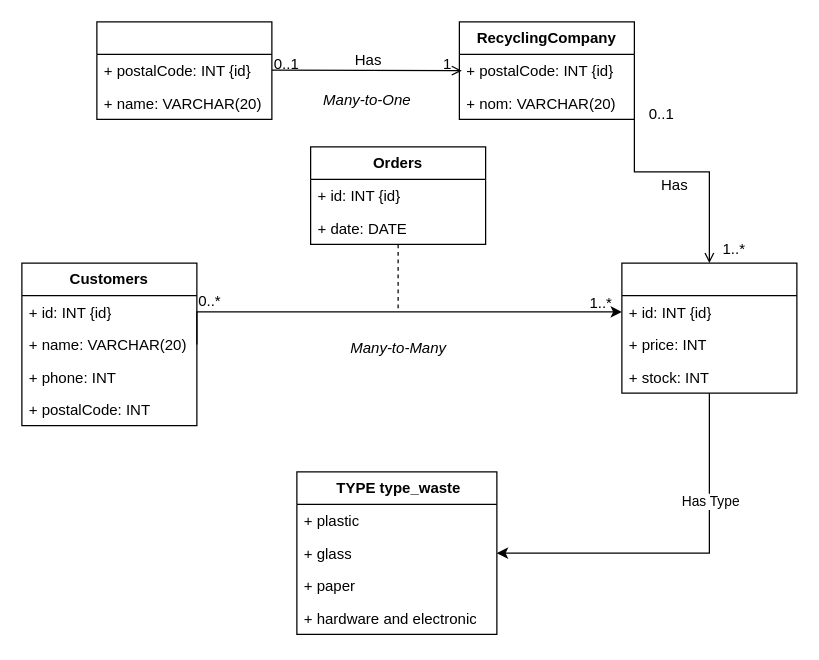
This 819x660 diagram has some shape labels left out. Each missing label, with the box of its shape:
City: (96, 21, 272, 119)
Product: (621, 262, 797, 393)
